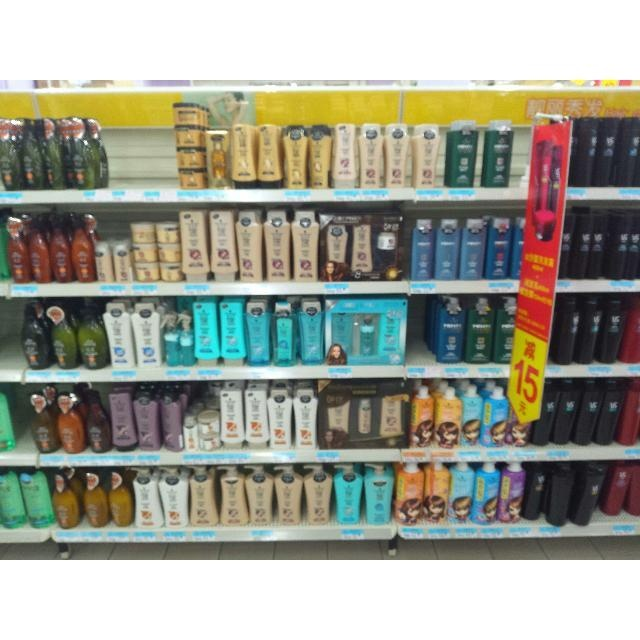empty: (107, 83, 172, 189), (0, 297, 20, 371), (407, 293, 424, 365), (16, 383, 28, 457)
